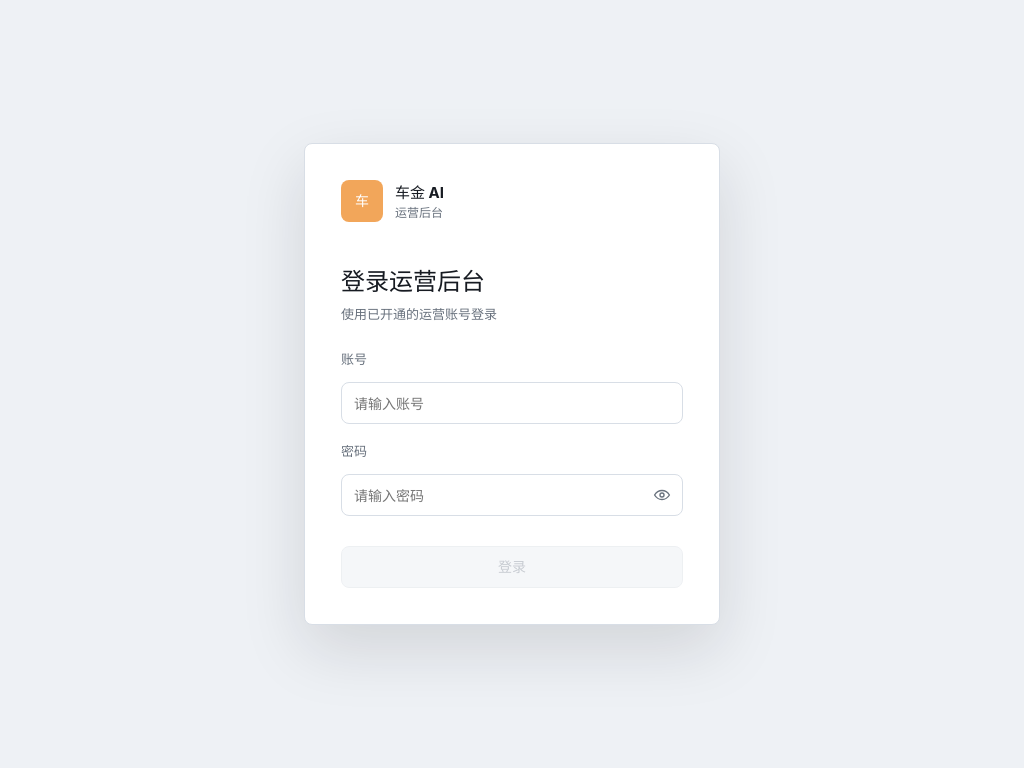
Test case: 运营后台登录门禁 › 登录失败显示统一中文提示，并恢复可提交状态
Step 1. Type "wrong" into the field with placeholder "请输入账号" → (512, 403), box [341, 382, 683, 424]
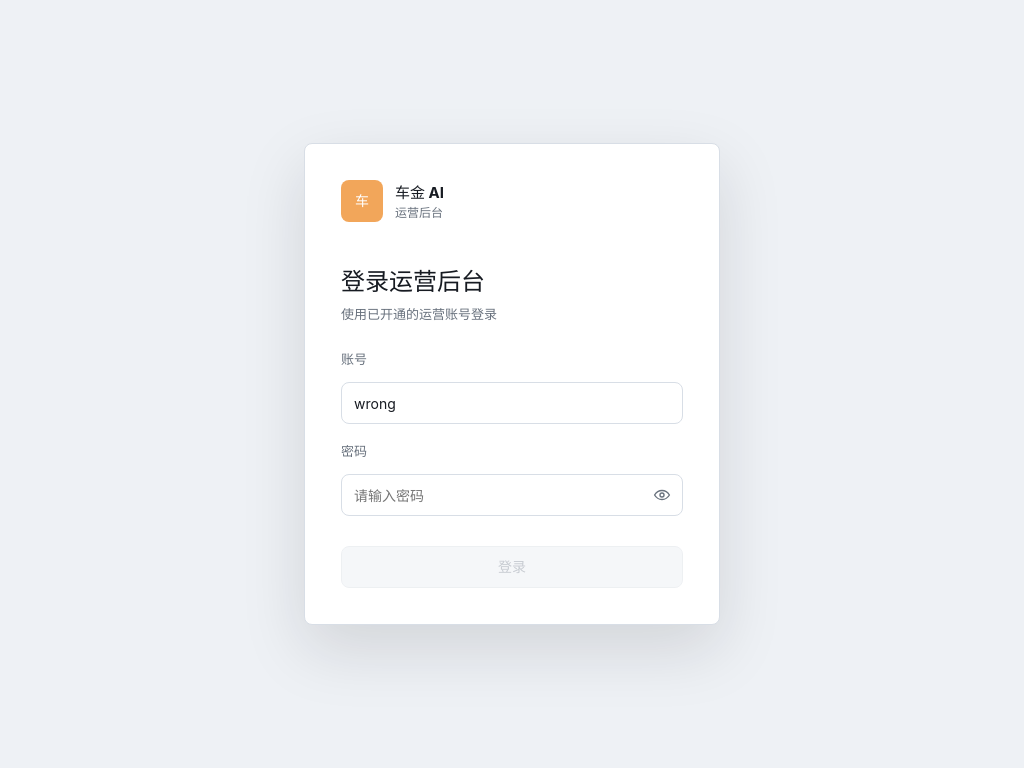
Step 2. Type "wrong" into the password field with placeholder "请输入密码" → (512, 495), box [341, 474, 683, 516]
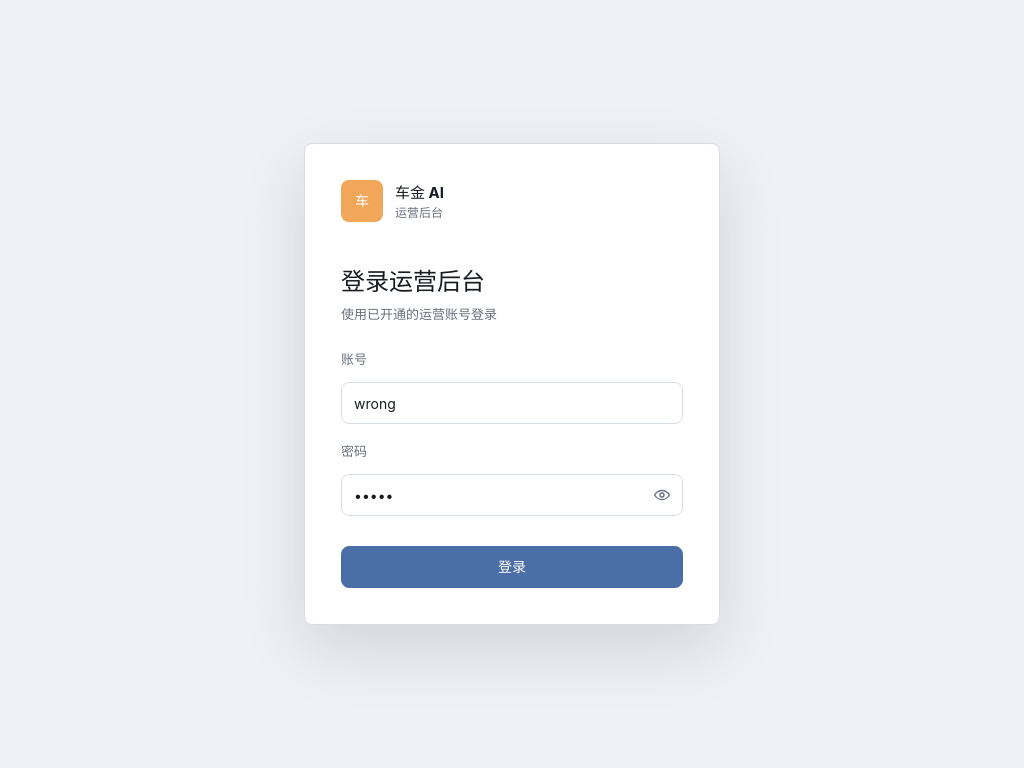
Step 3. Click the button "登录" → (512, 567), box [341, 546, 683, 588]
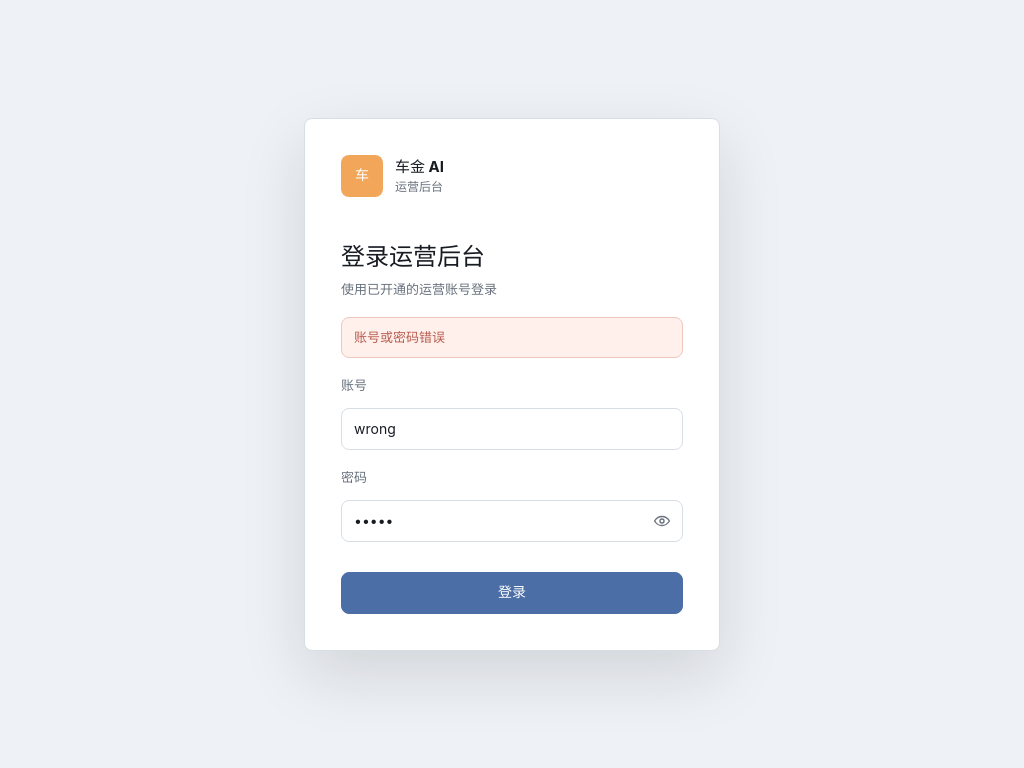
Expected: the button "登录" is enabled, [341, 572, 683, 614]
Expected: the message reads "账号或密码错误", [354, 328, 445, 344]
